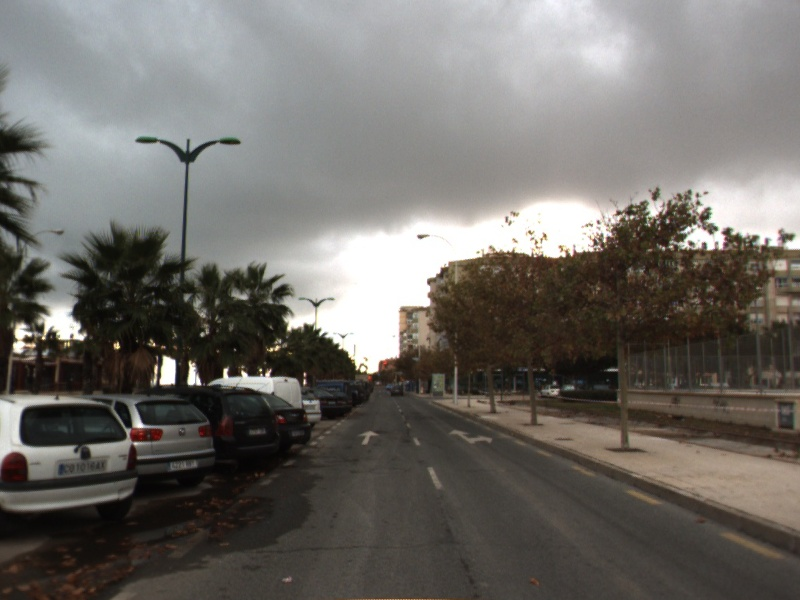STRAIGHT: (356, 429, 382, 446)
STRAIGHT_RIGHT: (447, 427, 494, 445)
